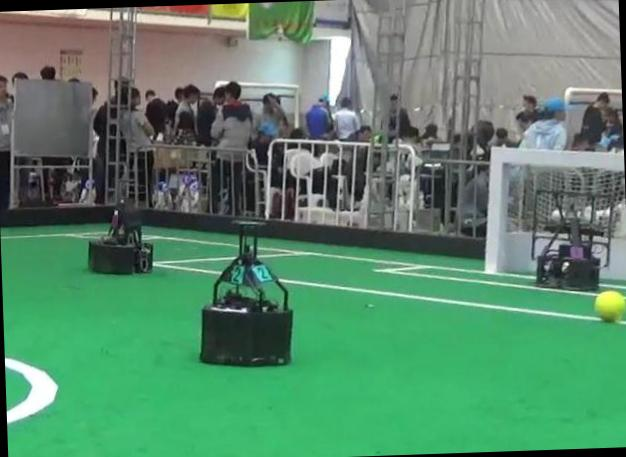ball: (594, 290, 625, 320)
goal: (486, 146, 500, 272)
robot: (200, 221, 291, 363), (532, 189, 614, 289), (88, 193, 153, 273)
